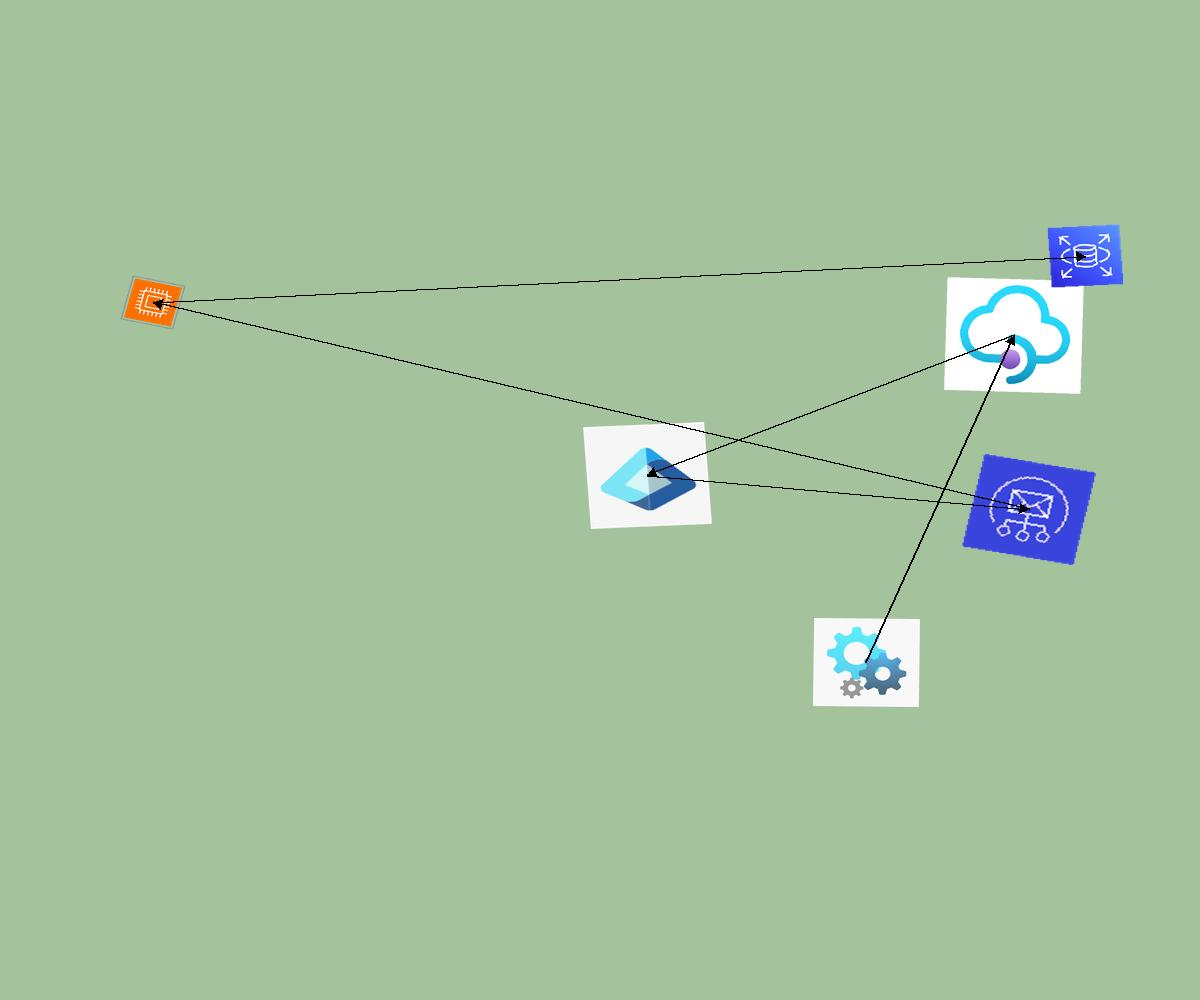AWS-Category_Compute: (120, 275, 186, 330)
AWS-RDS: (1047, 224, 1124, 288)
AWS-Simple-Email-Service: (961, 453, 1097, 566)
Azure_api: (813, 618, 920, 707)
Azure_api_gateway: (944, 277, 1084, 394)
Azure_microsoft_entra: (583, 422, 712, 529)
